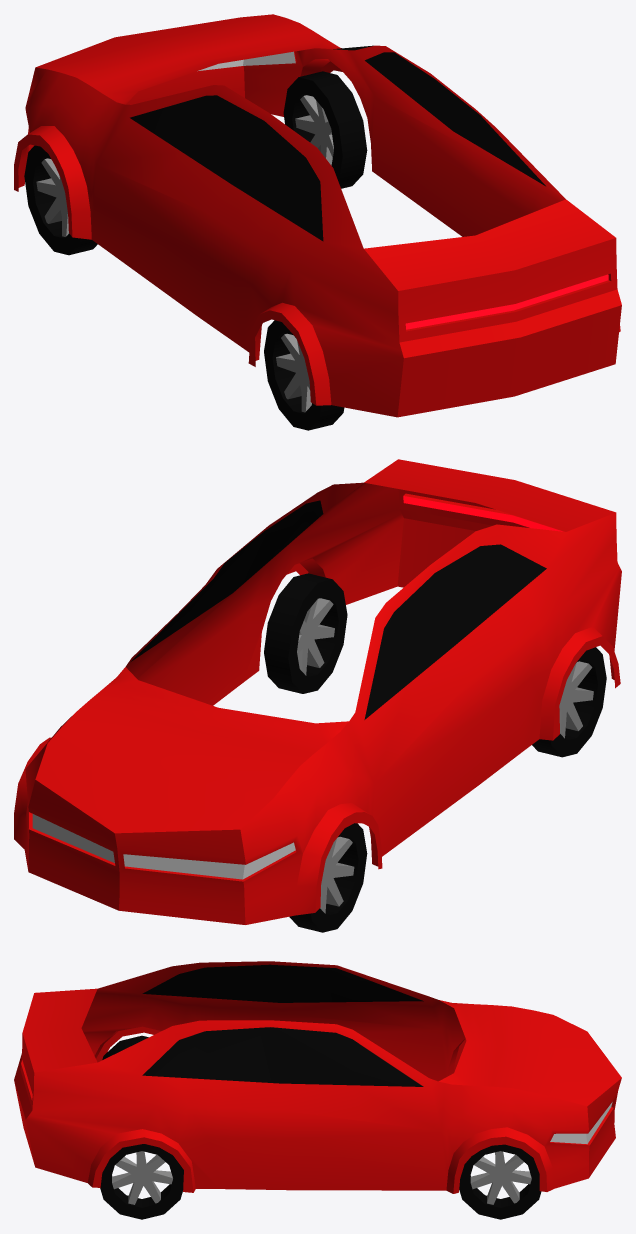
Rendered from Car1.fbx.
3 views of the same model, one above another, from view 1: azimuth 30°, elevation 25°; view 2: azimuth 150°, elevation 25°; view 3: azimuth 270°, elevation 25° (orthographic). The views are drawn at different scales.
Parts seen in each view (by area): view 1: Plane; view 2: Plane; view 3: Plane.
Part boxes in pixels (x1=…): Plane: x1=14, y1=14, x2=621, y2=430; Plane: x1=14, y1=459, x2=621, y2=932; Plane: x1=14, y1=961, x2=621, y2=1219.
Bounding box in the file's own units: 150 × 110 × 341.
